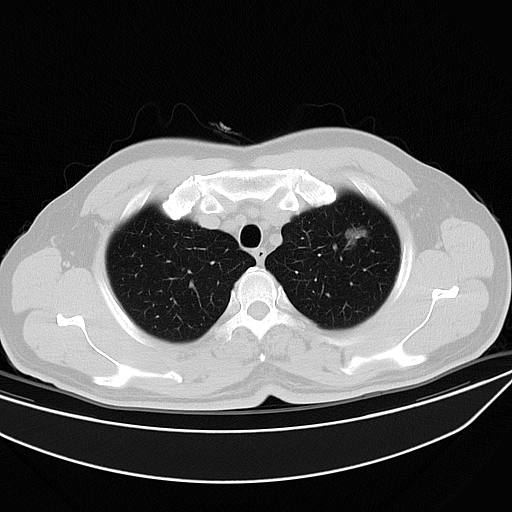nodule: (344, 226, 369, 248)
